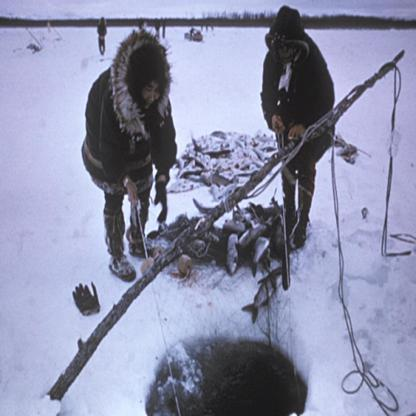face: (144, 77, 165, 114), (275, 33, 298, 63)
